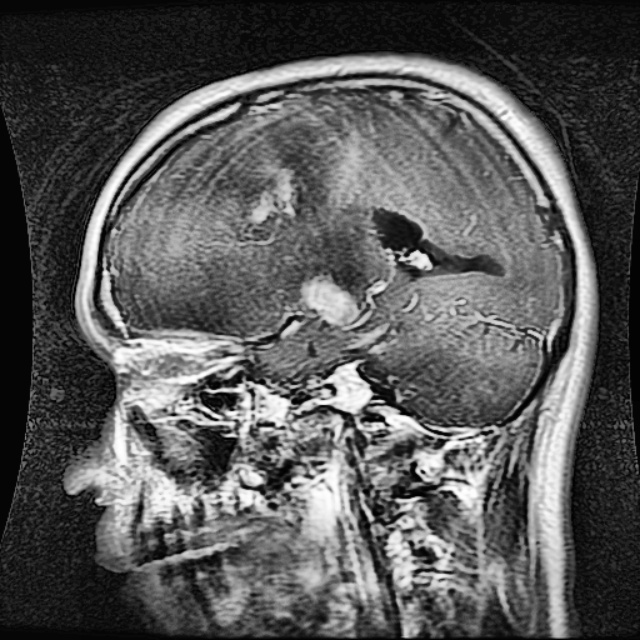Meningioma: (295, 280, 362, 324)
